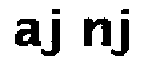a: (6, 15, 41, 47)
j: (111, 8, 139, 60), (40, 7, 67, 60)
n: (81, 16, 113, 49)
